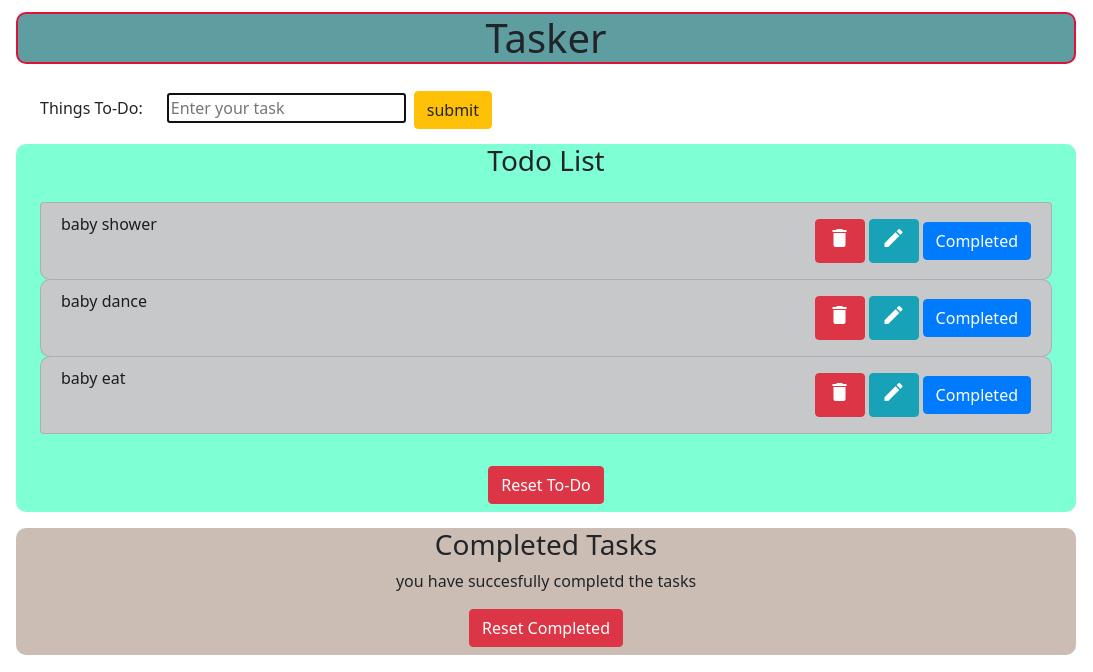
Scenario: Todo app testing › todo and completed reset buttons
Click the button "Completed" in the row of "baby dance" at (977, 318), box [923,299,1031,337]
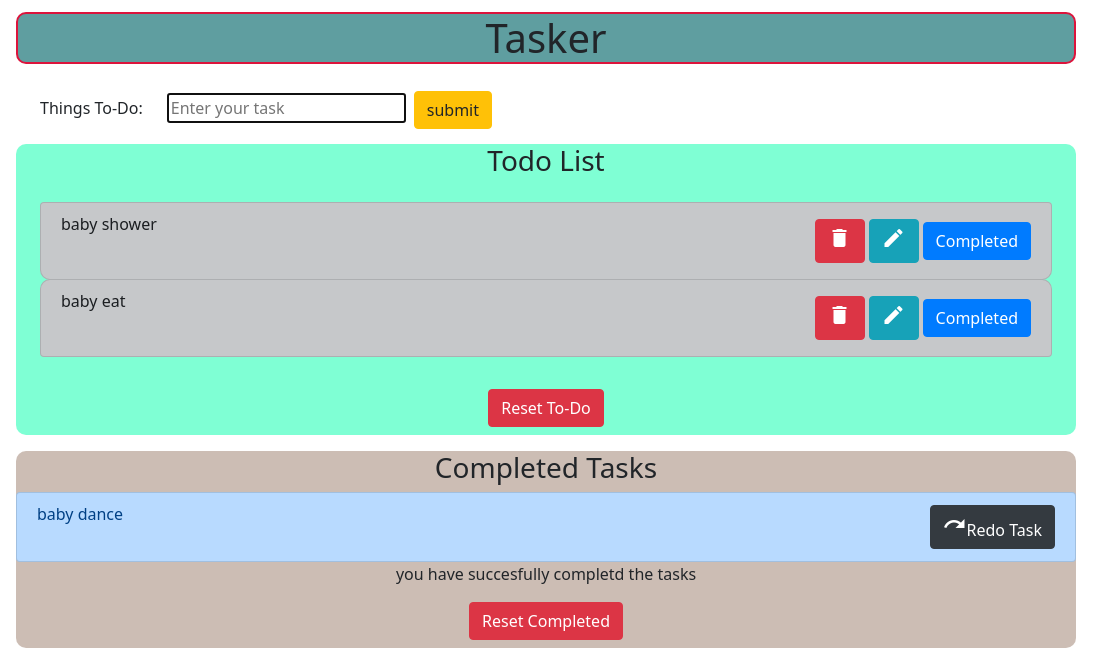
Click the button "Reset To-Do" at (546, 408), box [488,389,604,427]
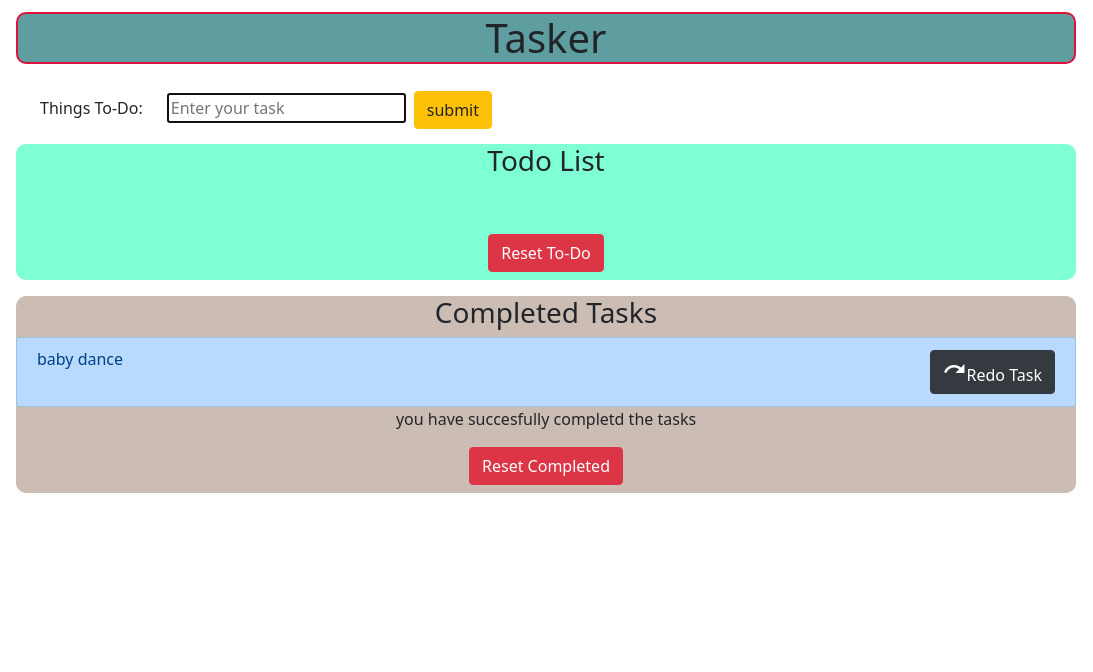
Expected: no list items with test id "todo-list" are shown
Click the button "Reset Completed" at (546, 466), box [469,447,623,485]
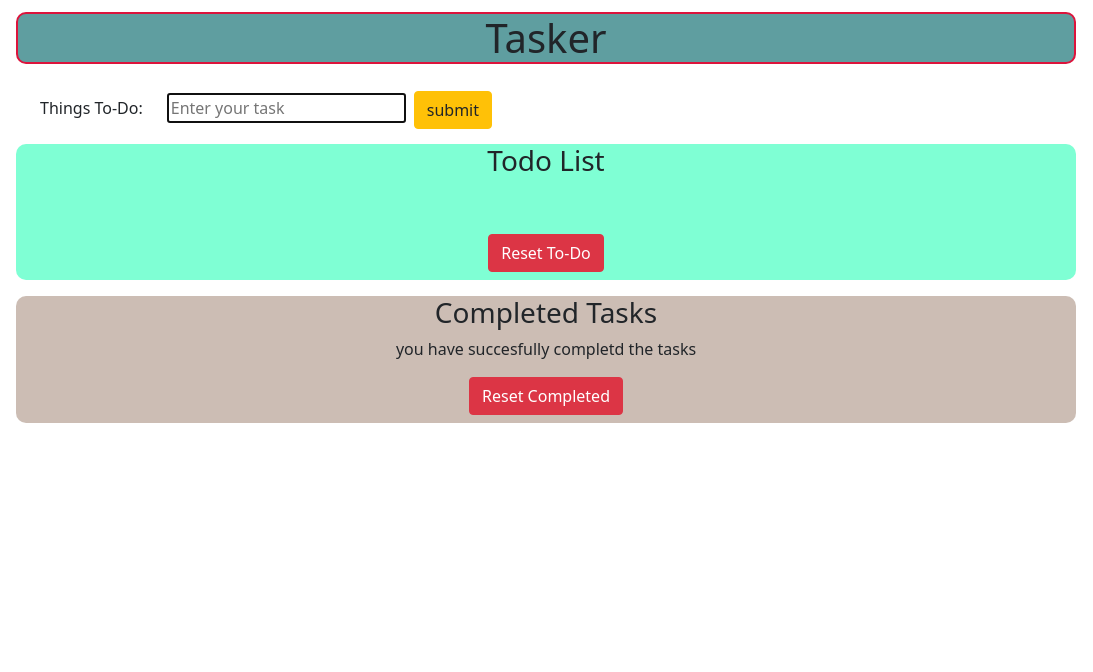
Expected: no list items with test id "completed-list" are shown
